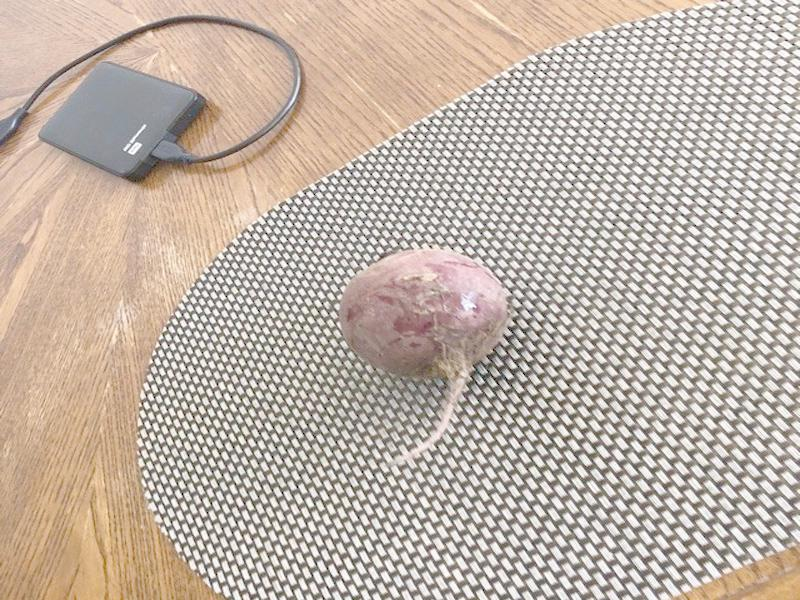Beet: (340, 249, 508, 467)
